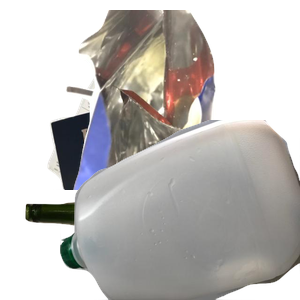glass: (23, 186, 249, 300)
paper: (45, 34, 230, 214)
plastic: (60, 120, 300, 300)
trash: (63, 10, 300, 190)
